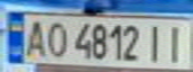1: (106, 20, 124, 61)
2: (121, 21, 145, 62)
4: (72, 20, 93, 60)
8: (90, 20, 109, 61)
A: (21, 17, 48, 59)
I: (160, 21, 190, 64), (142, 20, 169, 63)
O: (42, 19, 69, 58)
